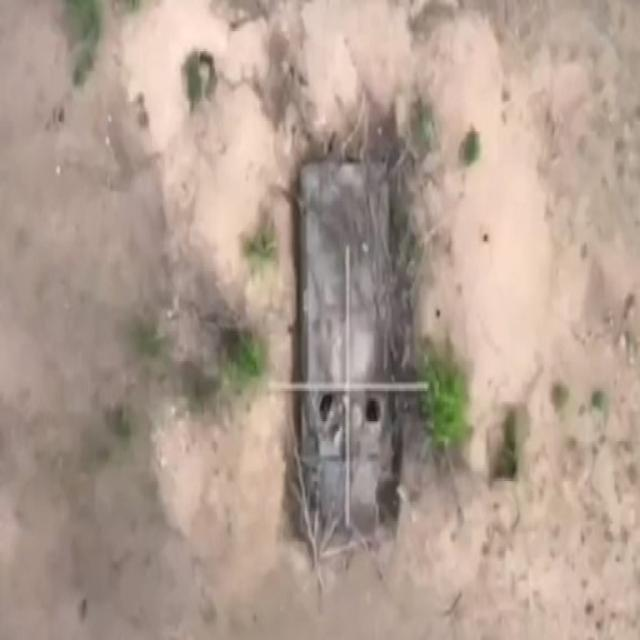APC-IFV: (285, 133, 404, 558)
